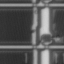dust: (29, 29, 35, 33)
